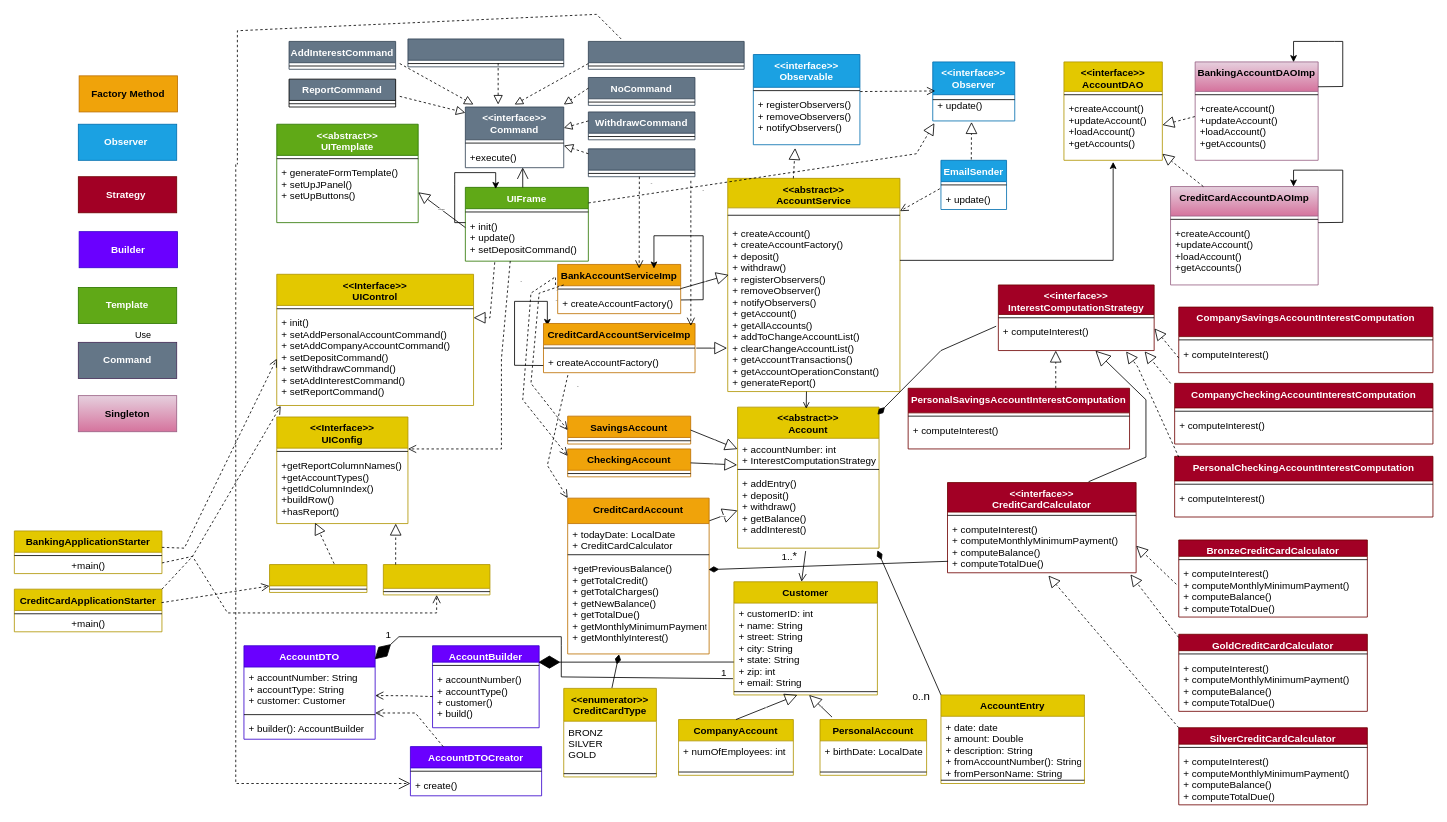
Some shapes in this 1447 by 822 pixel diagram are drawn without their labels. The shapes that lost their labels are listed below. From the top down, each one's centre as x and y in pixels, then its label:
At point (485, 52): "AddPersonalAccountCommand".
At point (666, 55): "AddCompanyAccountCommand".
At point (641, 162): "DepositeCommand".
At point (318, 578): "CreditCardUIConfig".
At point (436, 579): "BankingUIConfig".
